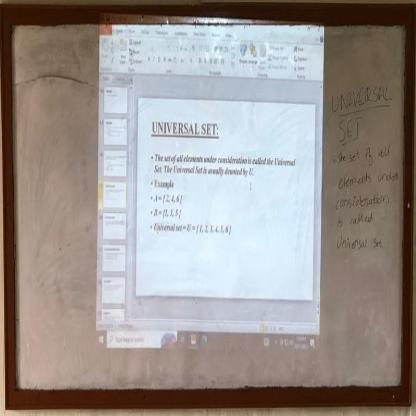Handwritten text: (329, 80, 393, 111), (330, 191, 394, 212), (336, 168, 403, 188), (334, 143, 391, 166), (333, 231, 389, 252), (338, 110, 364, 143), (332, 210, 377, 228)
Whiteboard: (7, 16, 409, 395)
